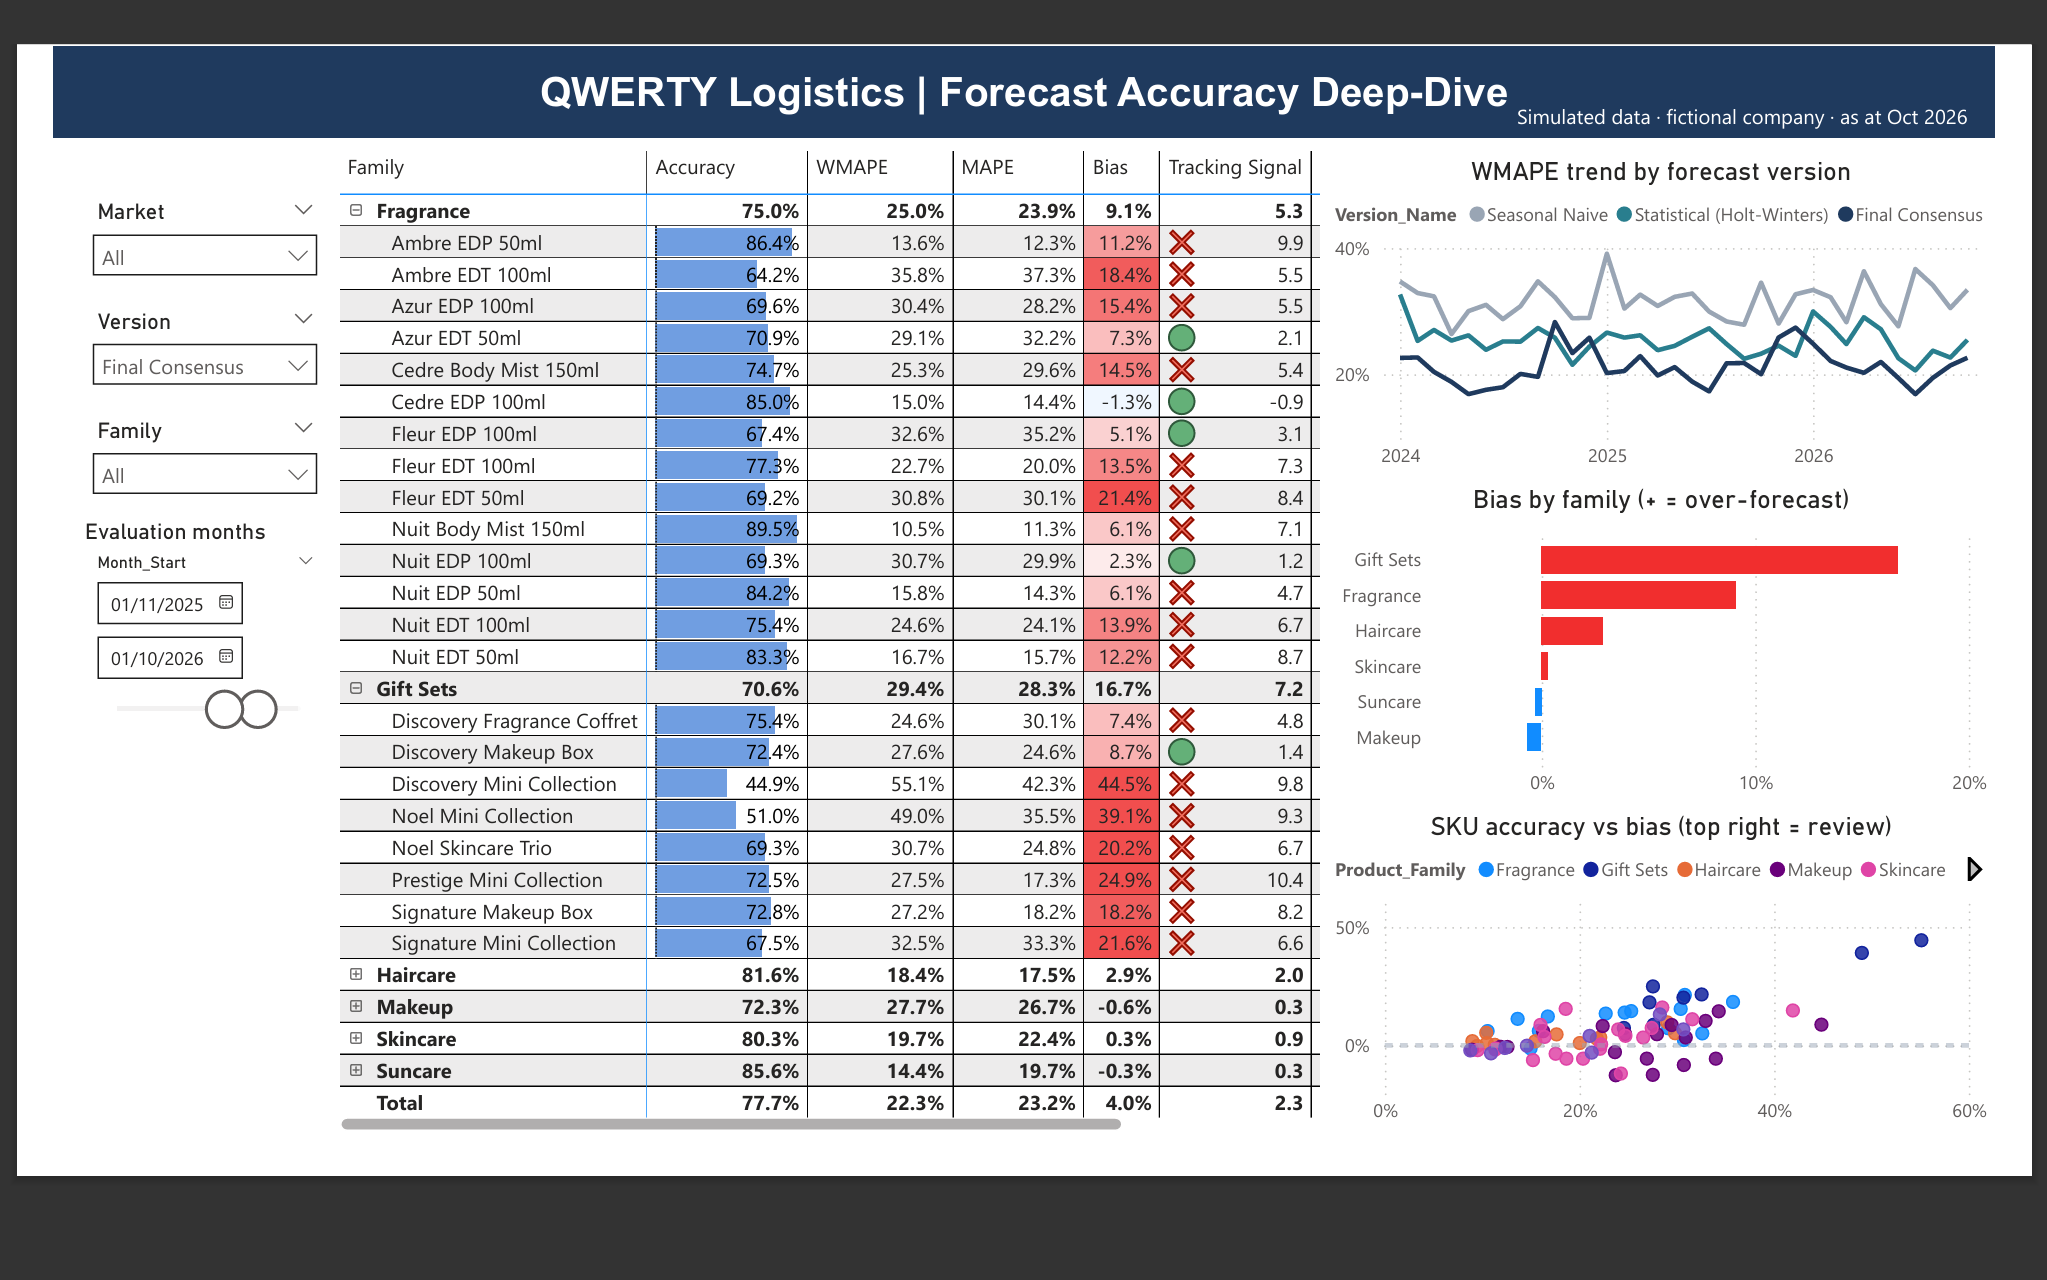

The dashboard page shown, as its layout file describes it:
{"tool":"powerbi","page":{"name":"Accuracy Deep-Dive","canvas":[1280,720],"ordinal":1},"visuals":[{"type":"slicer","fields":{"Values":["dim_market.Market_Name"]},"box":[16,96,168,72],"z":0},{"type":"slicer","fields":{"Values":["dim_forecast_version.Version_Name"]},"box":[16,168,168,72],"z":1000},{"type":"slicer","fields":{"Values":["dim_product.Product_Family"]},"box":[16,240,168,72],"z":2000},{"type":"slicer","title":"Evaluation months","fields":{"Values":["dim_date.Month_Start"]},"box":[16,312,168,152],"z":3000},{"type":"shape","box":[0,0,1280,60],"z":4000},{"type":"textbox","box":[0,10,1280,60],"z":5000},{"type":"textbox","box":[960,32,320,32],"z":6000},{"type":"pivotTable","fields":{"Rows":["dim_product.Product_Family","dim_product.SKU_Name"],"Values":["_Measures.Forecast Accuracy %","_Measures.WMAPE %","_Measures.MAPE %","_Measures.Bias %","_Measures.Tracking Signal","_Measures.Actual Units (Eval)"]},"box":[184,64,656,656],"z":7000},{"type":"lineChart","title":"WMAPE trend by forecast version","fields":{"Category":["dim_date.Month_Start"],"Series":["dim_forecast_version.Version_Name"],"Y":["_Measures.WMAPE %"]},"box":[840,72,440,216],"z":8000},{"type":"clusteredBarChart","title":"Bias by family (+ = over-forecast)","fields":{"Category":["dim_product.Product_Family"],"Y":["_Measures.Bias %"]},"box":[840,288,440,216],"z":9000},{"type":"scatterChart","title":"SKU accuracy vs bias (top right = review)","fields":{"Category":["dim_product.SKU_Name"],"Series":["dim_product.Product_Family"],"X":["_Measures.WMAPE %"],"Y":["_Measures.Bias %"]},"box":[840,504,440,216],"z":10000}]}

Visuals, with their boxes on the page's 1280x720 design canvas (x1, y1, x2, y2). These are canvas units, not pixel positions in the 2047x1280 screenshot, which may show the page scaled, cropped or inside an application window:
slicer - dim_market.Market_Name: (left=16, top=96, right=184, bottom=168)
slicer - dim_forecast_version.Version_Name: (left=16, top=168, right=184, bottom=240)
slicer - dim_product.Product_Family: (left=16, top=240, right=184, bottom=312)
"Evaluation months" slicer: (left=16, top=312, right=184, bottom=464)
shape: (left=0, top=0, right=1280, bottom=60)
textbox: (left=0, top=10, right=1280, bottom=70)
textbox: (left=960, top=32, right=1280, bottom=64)
pivotTable - dim_product.Product_Family x dim_product.SKU_Name: (left=184, top=64, right=840, bottom=720)
"WMAPE trend by forecast version" lineChart: (left=840, top=72, right=1280, bottom=288)
"Bias by family (+ = over-forecast)" clusteredBarChart: (left=840, top=288, right=1280, bottom=504)
"SKU accuracy vs bias (top right = review)" scatterChart: (left=840, top=504, right=1280, bottom=720)
